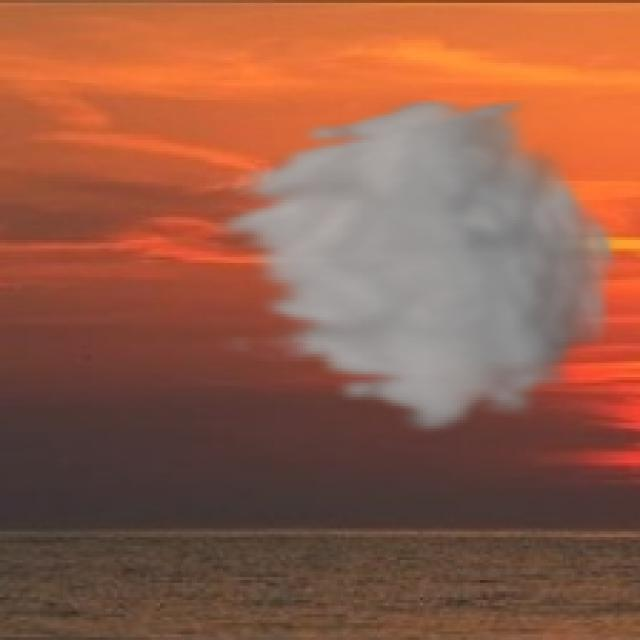Smoke: (203, 94, 626, 437)
